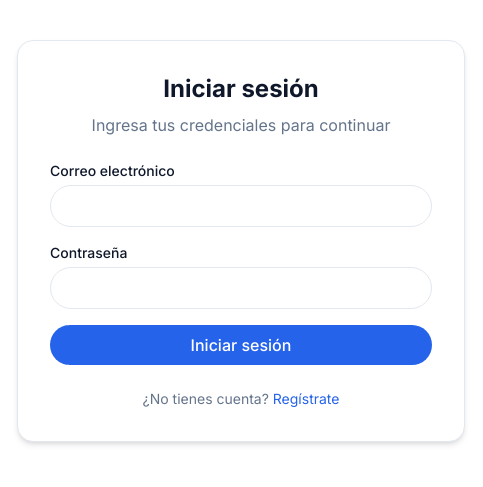
Test case: LoginPage › validates required fields
Click the button "Iniciar sesión": (241, 345) [50,325,432,365]
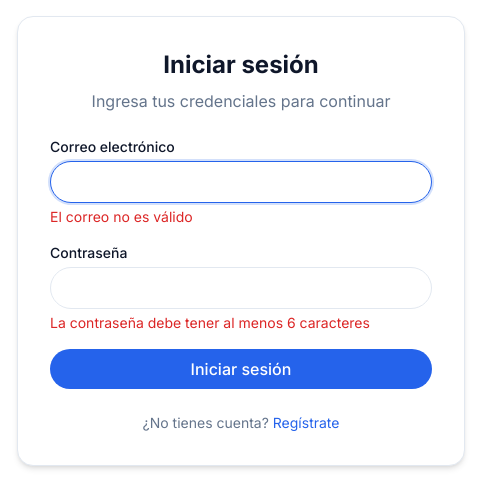
Expected: the text "El correo no es válido" is shown, [50,208,193,225]
